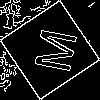M: (25, 25, 77, 74)
